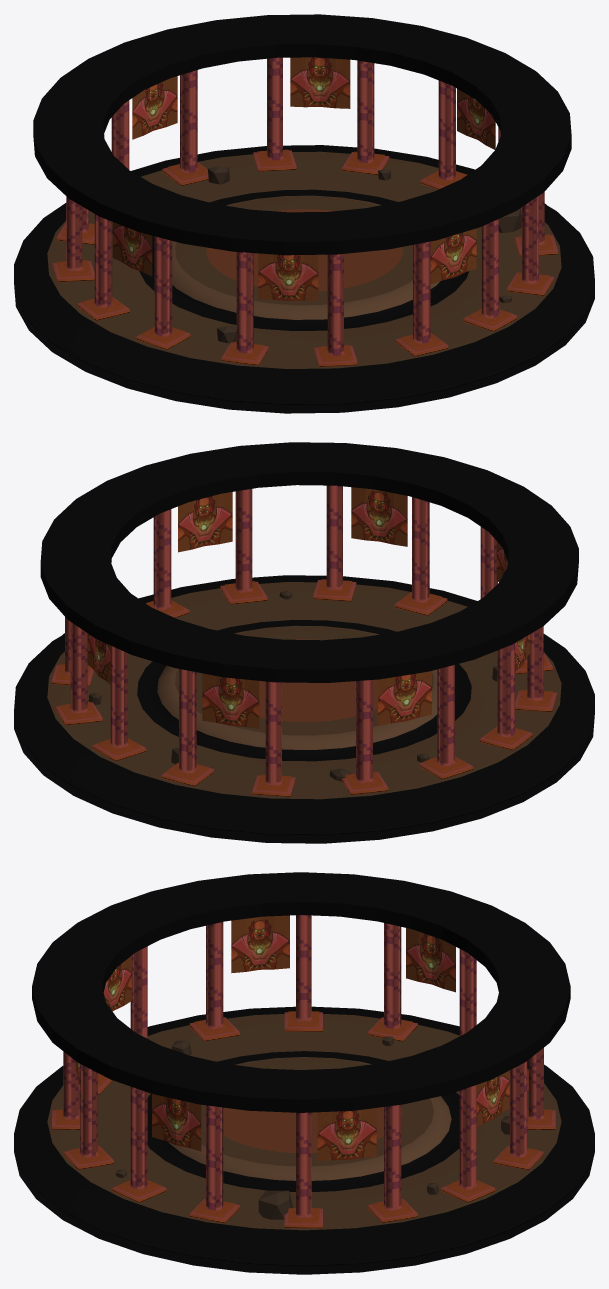
Rendered from Tower_orc.glb.
The picture shows the model from 3 angles, top to bottom: view 1: azimuth 30°, elevation 25°; view 2: azimuth 150°, elevation 25°; view 3: azimuth 270°, elevation 25°; orthographic projection.
Parts seen in each view (by area): view 1: Cylinder, Circle.001, Empty.008, Empty.007, Cube.010, Cube.006, Cube.004, Cube.005, Cube.003, Cube.014, Cube.012, Cube.002 (+11 smaller); view 2: Cylinder, Circle.001, Empty.003, Empty.002, Empty.006, Cube.004, Cube.008, Cube.003, Empty.001, Cube.015, Cube.012, Cube.013 (+9 smaller); view 3: Cylinder, Circle.001, Empty.004, Empty.005, Cube.010, Cube.009, Cube.016, Cube.015, Cube.005, Empty.001, Cube.008, Cube.002 (+11 smaller).
Part boxes in pixels (x1,y1,x2,y2): Cylinder: [14, 145, 594, 413]; Circle.001: [33, 14, 571, 255]; Empty.008: [290, 57, 350, 108]; Empty.007: [258, 253, 318, 300]; Cube.010: [136, 236, 190, 349]; Cube.006: [221, 252, 268, 365]; Cube.004: [395, 241, 448, 356]; Cube.005: [342, 60, 389, 175]; Cube.003: [162, 70, 208, 186]; Cube.014: [314, 254, 357, 367]; Cube.012: [463, 219, 517, 331]; Cube.002: [77, 214, 129, 320]; Cylinder: [14, 575, 594, 843]; Circle.001: [40, 442, 578, 682]; Empty.003: [351, 487, 407, 546]; Empty.002: [202, 673, 259, 728]; Empty.006: [178, 492, 232, 552]; Cube.004: [394, 497, 447, 615]; Cube.008: [220, 489, 267, 604]; Cube.003: [161, 669, 213, 786]; Empty.001: [378, 671, 431, 725]; Cube.015: [419, 665, 473, 779]; Cube.012: [313, 485, 356, 601]; Cube.013: [92, 646, 146, 761]; Cylinder: [14, 1006, 594, 1274]; Circle.001: [32, 872, 570, 1112]; Empty.004: [231, 915, 289, 973]; Empty.005: [317, 1108, 376, 1161]; Cube.010: [189, 922, 239, 1041]; Cube.009: [367, 1104, 417, 1223]; Cube.016: [189, 1105, 239, 1223]; Cube.015: [367, 923, 417, 1041]; Cube.005: [441, 1085, 495, 1202]; Empty.001: [406, 928, 455, 992]; Cube.008: [112, 1086, 166, 1202]; Cube.002: [284, 915, 322, 1031].
Size of the model in its own units: 200 by 62.54 by 200.
Materials: 9 (1 with a texture image).
